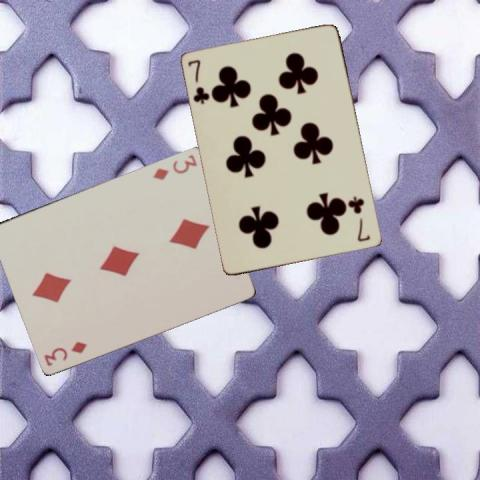3d: (150, 152, 199, 182), (41, 338, 89, 367)
7c: (185, 57, 212, 106), (348, 194, 372, 244)
